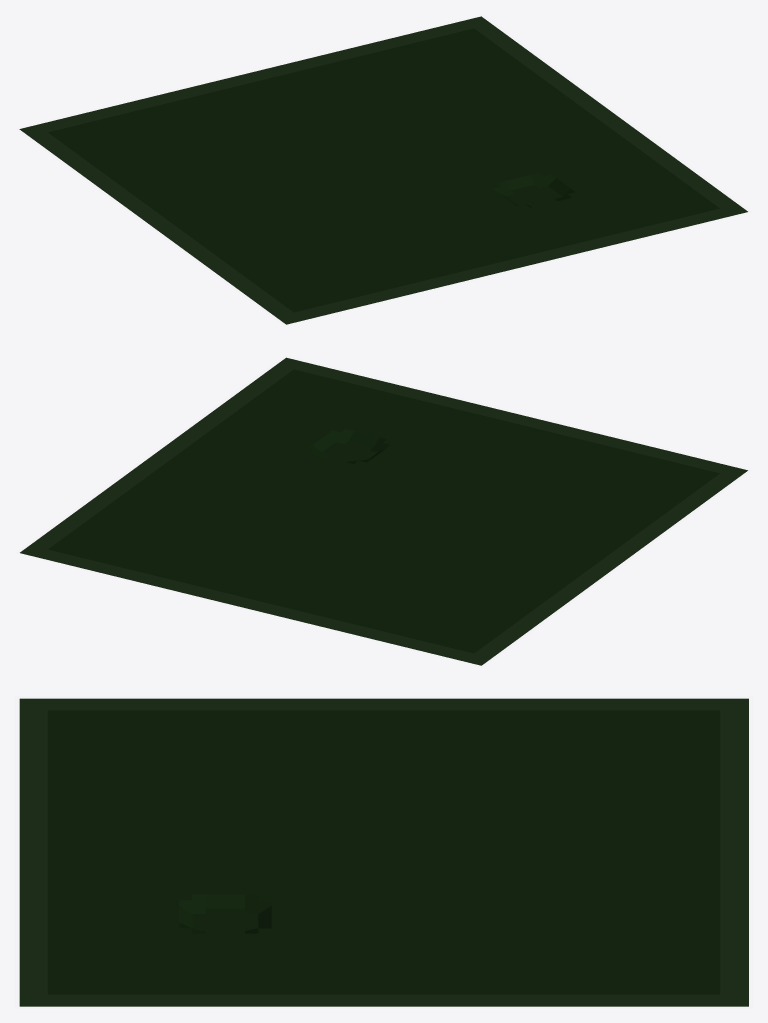
File: jamPole.glb
3 views of the same model, one above another, from view 1: azimuth 30°, elevation 25°; view 2: azimuth 150°, elevation 25°; view 3: azimuth 270°, elevation 25° (orthographic). The views are drawn at different scales.
Visible parts, largest first — view 1: ground.001, ground; view 2: ground.001; view 3: ground.001, ground.
Boxes of the visible parts, x1=… form: ground.001: x1=19, y1=16, x2=747, y2=324; ground: x1=286, y1=173, x2=747, y2=324; ground.001: x1=20, y1=357, x2=747, y2=665; ground.001: x1=20, y1=698, x2=748, y2=1006; ground: x1=19, y1=699, x2=271, y2=1006.
Size of the model in its own units: 250 by 3.21 by 250.
